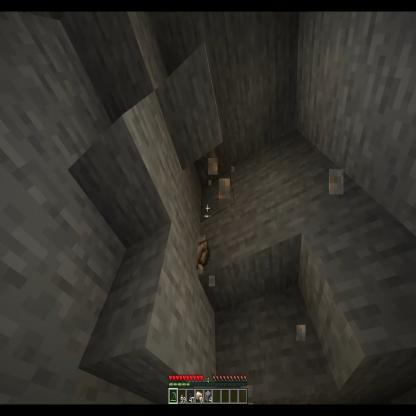iron ore: (190, 133, 229, 189)
